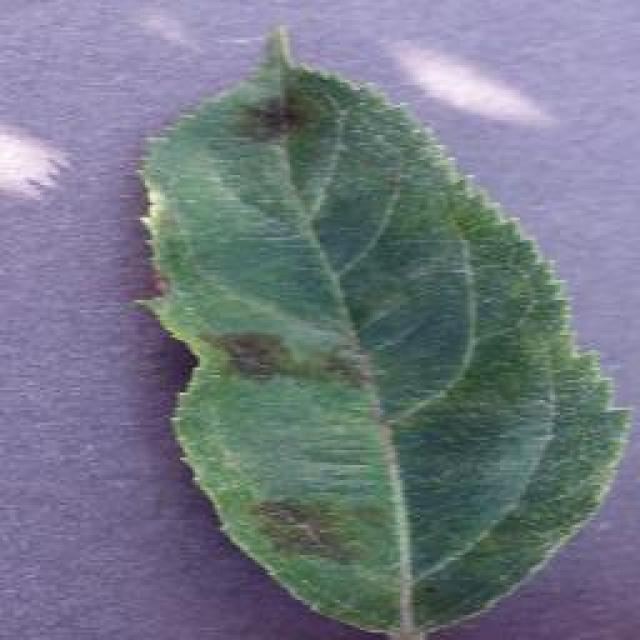apple scab disease: (130, 22, 632, 638)
